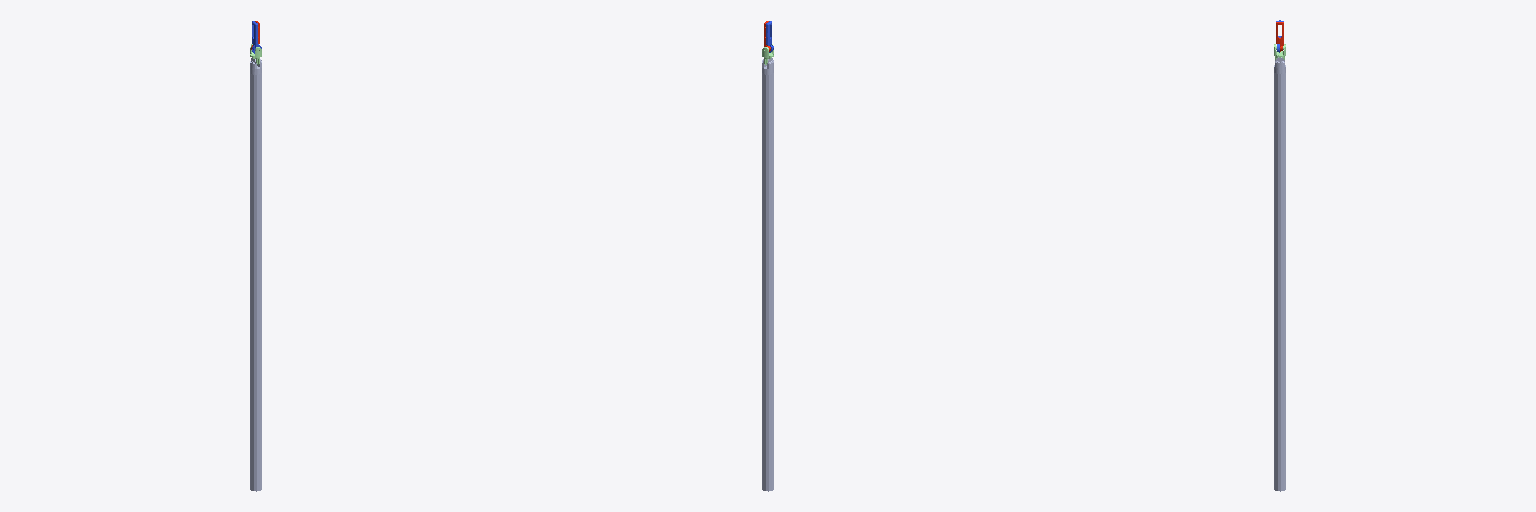
The robot description file, URDF, robot "forceps":
<?xml version="1.0" encoding="utf-8"?>

<robot name="forceps" version="1.0">
  <link
    name="forceps_base_link">
    <inertial>
      <origin
        xyz="-0.00149044162951133 3.88166641877133E-05 0.0447075908051869"
        rpy="0 0 0" />
      <mass
        value="0.298186310510585" />
      <inertia
        ixx="0.000154776223901756"
        ixy="-3.74733857377063E-07"
        ixz="1.53127145926008E-06"
        iyy="0.000144719807415472"
        iyz="-3.22842778667153E-07"
        izz="0.000229690754405414" />
    </inertial>
    <visual>
      <origin
        xyz="0 0 0"
        rpy="0 0 0" />
      <geometry>
        <mesh
          filename="package://asar_description/meshes/forceps_base_link.STL" />
      </geometry>
      <material
        name="">
        <color
          rgba="0.752941176470588 0.752941176470588 0.752941176470588 1" />
      </material>
    </visual>
    <collision>
      <origin
        xyz="0 0 0"
        rpy="0 0 0" />
      <geometry>
        <mesh
          filename="package://asar_description/meshes/forceps_base_link.STL" />
      </geometry>
    </collision>
  </link>

  <link
    name="interface_link">
    <inertial>
      <origin
        xyz="3.00086145239549E-09 2.112459961582E-11 0.147402389131478"
        rpy="0 0 0" />
      <mass
        value="0.00261293291328178" />
      <inertia
        ixx="1.63505872923441E-05"
        ixy="3.8663038074946E-12"
        ixz="-3.42186336718604E-14"
        iyy="1.63509454131809E-05"
        iyz="7.48161673523837E-15"
        izz="3.57106513425572E-08" />
    </inertial>
    <visual>
      <origin
        xyz="0 0 0"
        rpy="0 0 0" />
      <geometry>
        <mesh
          filename="package://asar_description/meshes/interface_link.STL" />
      </geometry>
      <material
        name="">
        <color
          rgba="0.792156862745098 0.819607843137255 0.933333333333333 1" />
      </material>
    </visual>
    <collision>
      <origin
        xyz="0 0 0"
        rpy="0 0 0" />
      <geometry>
        <mesh
          filename="package://asar_description/meshes/interface_link.STL" />
      </geometry>
    </collision>
  </link>
  <joint
    name="joint_interface"
    type="fixed">
    <origin
      xyz="-0.00027829 0 0.13908"
      rpy="0 0 0" />
    <parent
      link="forceps_base_link" />
    <child
      link="interface_link" />
    <axis
      xyz="0 0 0" />
  </joint>
  <link
    name="pitch_link">
    <inertial>
      <origin
        xyz="2.52485481626179E-08 -0.00460242657509724 1.23891152045854E-06"
        rpy="0 0 0" />
      <mass
        value="0.000212134241063242" />
      <inertia
        ixx="2.33719234235661E-09"
        ixy="3.22762522867187E-14"
        ixz="-3.5296103126231E-13"
        iyy="1.52969345561766E-09"
        iyz="-2.85012982590978E-13"
        izz="3.09921927199525E-09" />
    </inertial>
    <visual>
      <origin
        xyz="0 0 0"
        rpy="0 0 0" />
      <geometry>
        <mesh
          filename="package://asar_description/meshes/pitch_link.STL" />
      </geometry>
      <material
        name="">
        <color
          rgba="0.752941176470588 1 0.752941176470588 1" />
      </material>
    </visual>
    <collision>
      <origin
        xyz="0 0 0"
        rpy="0 0 0" />
      <geometry>
        <mesh
          filename="package://asar_description/meshes/pitch_link.STL" />
      </geometry>
    </collision>
  </link>
  <joint
    name="joint_f0_pitch"
    type="revolute">
    <origin
      xyz="0 0 0.28"
      rpy="-1.5708 0 -1.5708" />
    <parent
      link="interface_link" />
    <child
      link="pitch_link" />
    <axis
      xyz="0 0 1" />
    <limit
      lower="-1.570796"
      upper="1.570796"
      effort="1"
      velocity="5.2" />
  </joint>
  <link
    name="finger_left_link">
    <inertial>
      <origin
        xyz="-0.000728060044408658 -0.00823166125452757 -0.000323786767286641"
        rpy="0 0 0" />
      <mass
        value="0.00013941238132763" />
      <inertia
        ixx="5.12659773643428E-09"
        ixy="-1.58252679742548E-10"
        ixz="1.2677240722727E-11"
        iyy="4.62351522859708E-10"
        iyz="2.54948987001423E-10"
        izz="4.84498957565075E-09" />
    </inertial>
    <visual>
      <origin
        xyz="0 0 0"
        rpy="0 0 0" />
      <geometry>
        <mesh
          filename="package://asar_description/meshes/finger_left_link.STL" />
      </geometry>
      <material
        name="">
        <color
          rgba="1 0.250980392156863 0.12156862745098 1" />
      </material>
    </visual>
    <collision>
      <origin
        xyz="0 0 0"
        rpy="0 0 0" />
      <geometry>
        <mesh
          filename="package://asar_description/meshes/finger_left_link.STL" />
      </geometry>
    </collision>
  </link>
  <joint
    name="joint_f1_finger_left"
    type="revolute">
    <origin
      xyz="0 -0.009 0"
      rpy="0 1.5708 0" />
    <parent
      link="pitch_link" />
    <child
      link="finger_left_link" />
    <axis
      xyz="0 0 1" />
    <limit
      lower="-1.570796"
      upper="1.570796"
      effort="1"
      velocity="5.2" />
  </joint>
  <link
    name="finger_right_link">
    <inertial>
      <origin
        xyz="0.000613324471596387 -0.00690795444614234 0.000398239206621067"
        rpy="0 0 0" />
      <mass
        value="0.000166395577602424" />
      <inertia
        ixx="7.09019614386052E-09"
        ixy="3.26224119342583E-10"
        ixz="3.64778078548204E-11"
        iyy="6.20037783086121E-10"
        iyz="-4.2629331679326E-10"
        izz="6.90443851391549E-09" />
    </inertial>
    <visual>
      <origin
        xyz="0 0 0"
        rpy="0 0 0" />
      <geometry>
        <mesh
          filename="package://asar_description/meshes/finger_right_link.STL" />
      </geometry>
      <material
        name="">
        <color
          rgba="0.27843137254902 0.43921568627451 1 1" />
      </material>
    </visual>
    <collision>
      <origin
        xyz="0 0 0"
        rpy="0 0 0" />
      <geometry>
        <mesh
          filename="package://asar_description/meshes/finger_right_link.STL" />
      </geometry>
    </collision>
  </link>
  <joint
    name="joint_f2_finger_right"
    type="revolute">
    <origin
      xyz="0 -0.009 0"
      rpy="0 1.5708 0" />
    <parent
      link="pitch_link" />
    <child
      link="finger_right_link" />
    <axis
      xyz="0 0 1" />
    <limit
      lower="-1.570796"
      upper="1.570796"
      effort="1"
      velocity="5.2" />
  </joint>
  <link name="ee_link" />
  <joint name="joint_ee" type="fixed">
    <origin xyz="0 -0.015 0.0" rpy="0.0 0.0 0.0" />
    <parent link="finger_left_link" />
    <child link="ee_link" />
    <axis xyz="0 0 0" />
  </joint>
</robot>

--- Render facts (derived) ---
3 views of the same robot in one strip: view 1: azimuth 30°, elevation 25°; view 2: azimuth 150°, elevation 25°; view 3: azimuth 270°, elevation 25° (orthographic).
Robot: forceps — 6 links, 5 joints (3 revolute, 2 fixed); root link forceps_base_link; default pose: all joints at 0.
Visible links, largest first — view 1: interface_link; view 2: interface_link; view 3: interface_link.
Link boxes in pixels (<box>): interface_link: <box>250,58,261,491</box>; interface_link: <box>762,58,773,491</box>; interface_link: <box>1274,57,1285,491</box>.
Size in the robot's own frame: 0.008 by 0.008 by 0.336 metres.
Meshes: 5 distinct files referenced, 4 mesh visuals loaded (4 binary STL); not drawn: 1 (reference not matched to a file when rendering).
